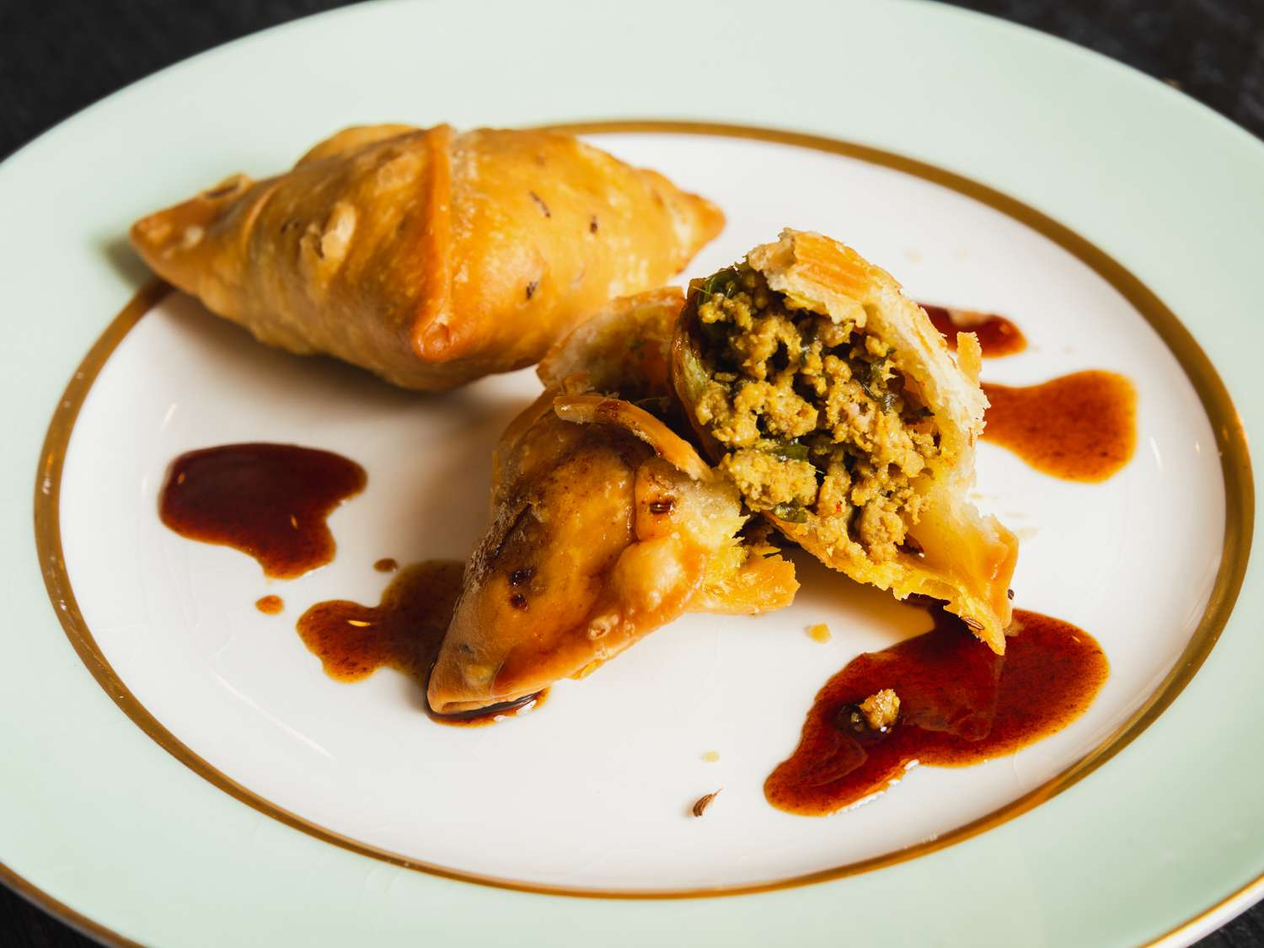samosa: (451, 236, 1005, 716), (116, 126, 720, 364)
